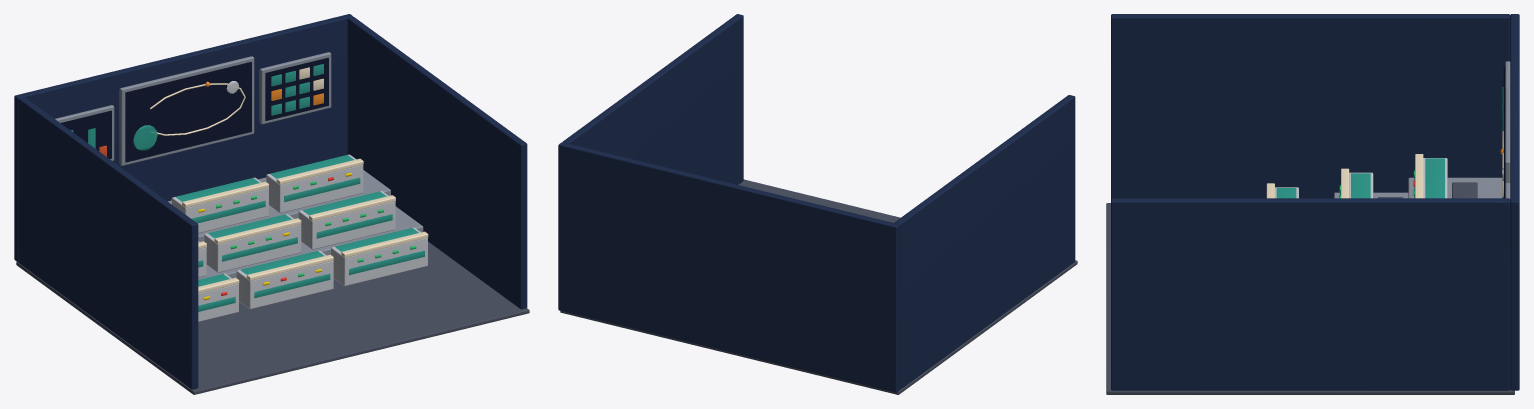
File: Scene_MissionControl.glb
3 views of the same model, side by side, from view 1: azimuth 30°, elevation 25°; view 2: azimuth 150°, elevation 25°; view 3: azimuth 270°, elevation 25° (orthographic). The views are drawn at different scales.
Visible parts, largest first — view 1: Scene_MissionControl.Walls, Scene_MissionControl.Floor, Scene_MissionControl.Screen_Center, Scene_MissionControl.Desks_1, Scene_MissionControl.Desks_2, Scene_MissionControl.Desks_3, Scene_MissionControl.Screen_Right, Scene_MissionControl.Tiers, Scene_MissionControl.Screen_Left; view 2: Scene_MissionControl.Walls, Scene_MissionControl.Floor; view 3: Scene_MissionControl.Walls, Scene_MissionControl.Floor, Scene_MissionControl.Desks_3, Scene_MissionControl.Tiers, Scene_MissionControl.Desks_2, Scene_MissionControl.Screen_Center, Scene_MissionControl.Risers, Scene_MissionControl.Desks_1.
Part boxes in pixels (x1,y1,x2,y2): Scene_MissionControl.Walls: [14, 14, 527, 389]; Scene_MissionControl.Floor: [16, 241, 529, 394]; Scene_MissionControl.Screen_Center: [119, 56, 254, 165]; Scene_MissionControl.Desks_1: [198, 227, 428, 321]; Scene_MissionControl.Desks_2: [198, 191, 395, 277]; Scene_MissionControl.Desks_3: [171, 154, 363, 233]; Scene_MissionControl.Screen_Right: [259, 52, 331, 124]; Scene_MissionControl.Tiers: [168, 170, 423, 279]; Scene_MissionControl.Screen_Left: [55, 105, 114, 160]; Scene_MissionControl.Walls: [558, 14, 1075, 392]; Scene_MissionControl.Floor: [560, 179, 1077, 394]; Scene_MissionControl.Walls: [1111, 14, 1519, 390]; Scene_MissionControl.Floor: [1106, 203, 1514, 394]; Scene_MissionControl.Desks_3: [1414, 154, 1447, 198]; Scene_MissionControl.Tiers: [1334, 177, 1502, 198]; Scene_MissionControl.Desks_2: [1340, 168, 1373, 198]; Scene_MissionControl.Screen_Center: [1500, 87, 1510, 196]; Scene_MissionControl.Risers: [1378, 182, 1477, 198]; Scene_MissionControl.Desks_1: [1266, 183, 1298, 198].
Size of the model in its own units: 9.6 by 4.6 by 8.9.
1 material, 1 textured.
